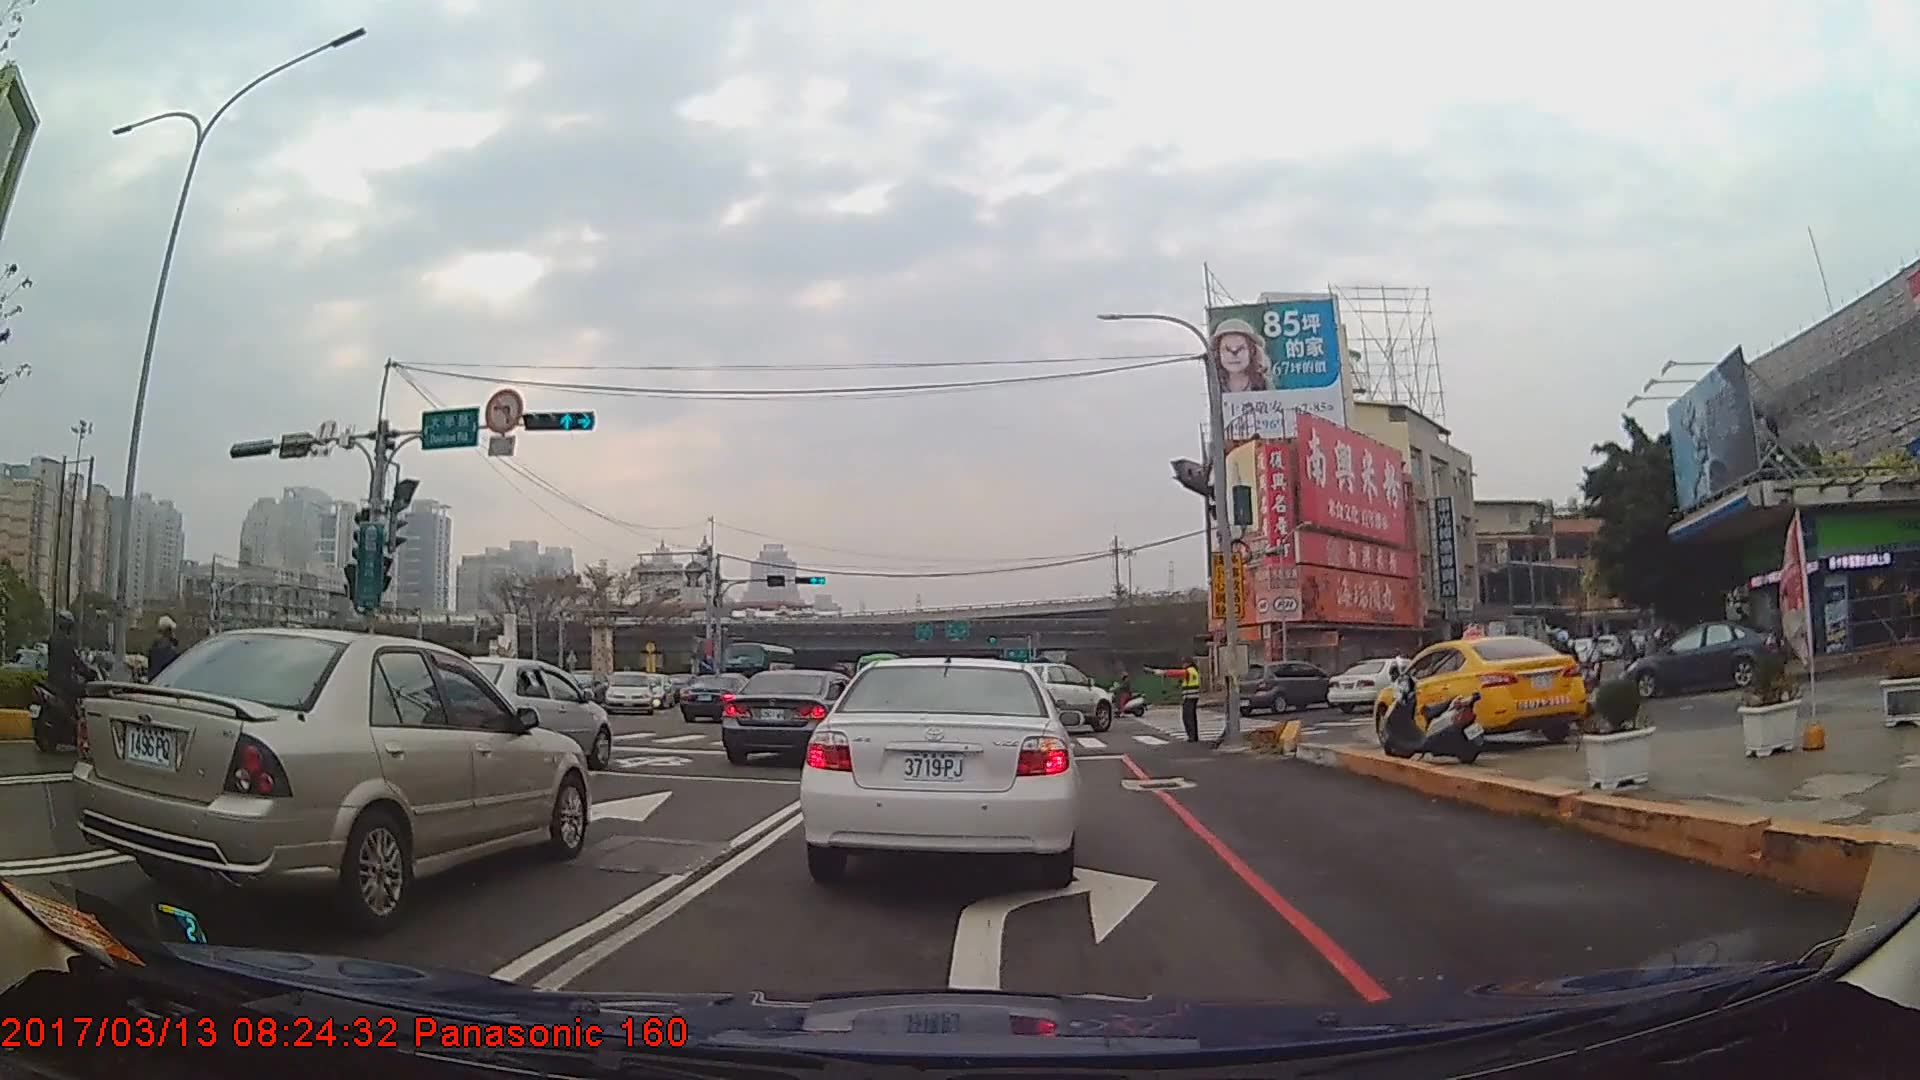pedestrian: (1144, 657, 1204, 742)
rider: (26, 614, 105, 760), (140, 615, 196, 774), (1100, 671, 1147, 720)
vehicle: (72, 628, 594, 926), (791, 653, 1084, 879), (1371, 632, 1591, 747), (422, 654, 613, 774), (722, 669, 867, 764), (1620, 619, 1787, 698), (1005, 658, 1114, 736), (1229, 659, 1341, 714), (1326, 655, 1430, 713), (678, 668, 766, 722), (604, 670, 652, 715)
